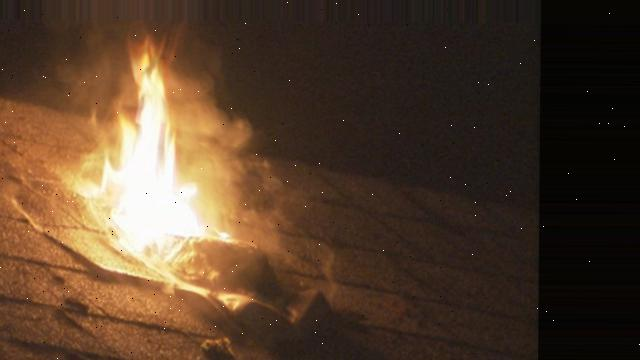fire: (87, 40, 189, 240)
smoke: (192, 58, 342, 302)
